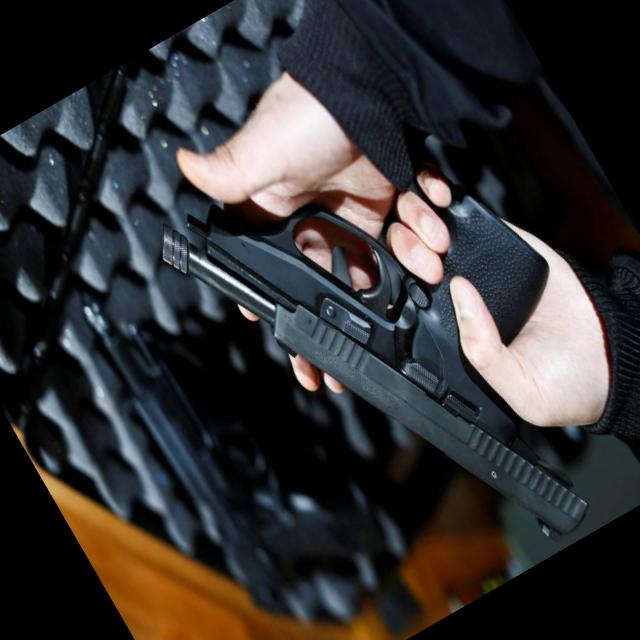Weapon: (142, 51, 640, 640)
